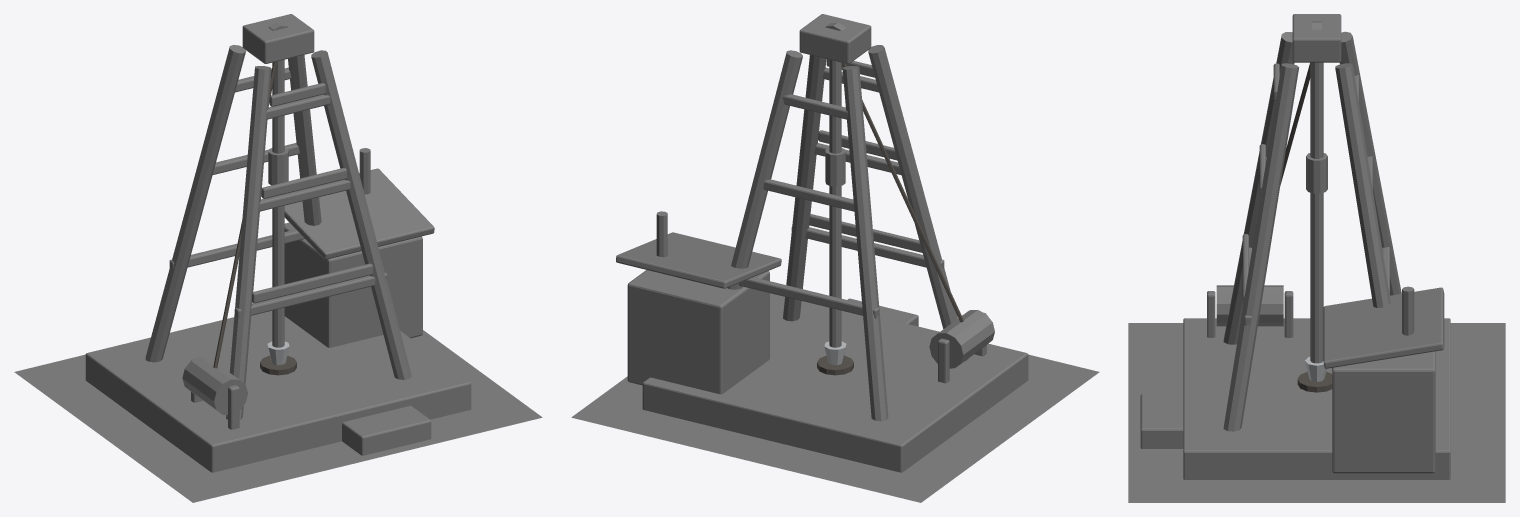
File: drilling-rig.glb
3 renders of one model, left to right at view 1: azimuth 30°, elevation 25°; view 2: azimuth 150°, elevation 25°; view 3: azimuth 270°, elevation 25°, orthographic. The views are drawn at different scales.
Parts seen in each view (by area): view 1: deck, ContactShadow, shed, shedRoof, leg.001, leg.002, leg, steps, crown, pipeMain, leg.003, drum (+10 smaller); view 2: deck, ContactShadow, shed, leg.001, shedRoof, leg, leg.002, leg.003, pipeMain, crown, drum, brace.002 (+7 smaller); view 3: ContactShadow, deck, shed, shedRoof, leg.002, leg.003, pipeMain, leg, steps, crown, leg.001, drum (+6 smaller).
Boxes of the visible parts, x1,y1,x2,y2 form: deck: [85, 311, 471, 472]; ContactShadow: [14, 330, 542, 502]; shed: [284, 222, 422, 347]; shedRoof: [284, 168, 434, 259]; leg.001: [145, 45, 245, 362]; leg.002: [311, 50, 411, 379]; leg: [226, 66, 271, 419]; steps: [342, 405, 431, 455]; crown: [242, 14, 314, 63]; pipeMain: [272, 59, 284, 347]; leg.003: [288, 55, 321, 225]; drum: [182, 356, 247, 414]; deck: [642, 293, 1028, 472]; ContactShadow: [571, 354, 1099, 502]; shed: [627, 270, 769, 394]; leg.001: [842, 66, 888, 421]; shedRoof: [616, 232, 781, 288]; leg: [868, 45, 968, 361]; leg.002: [783, 55, 826, 321]; leg.003: [727, 50, 802, 289]; pipeMain: [829, 59, 841, 347]; crown: [799, 14, 871, 63]; drum: [929, 310, 994, 368]; brace.002: [738, 277, 879, 318]; ContactShadow: [1128, 323, 1505, 502]; deck: [1183, 318, 1450, 479]; shed: [1332, 351, 1435, 473]; shedRoof: [1323, 287, 1444, 368]; leg.002: [1223, 63, 1299, 431]; leg.003: [1335, 63, 1390, 307]; pipeMain: [1310, 62, 1323, 363]; leg: [1223, 32, 1294, 344]; steps: [1140, 394, 1183, 448]; crown: [1292, 14, 1341, 62]; leg.001: [1339, 31, 1401, 295]; drum: [1216, 285, 1283, 326].
Bounding box in the file's own units: 3.5 × 3.56 × 3.1.
Materials: 10 (8 with a texture image).
